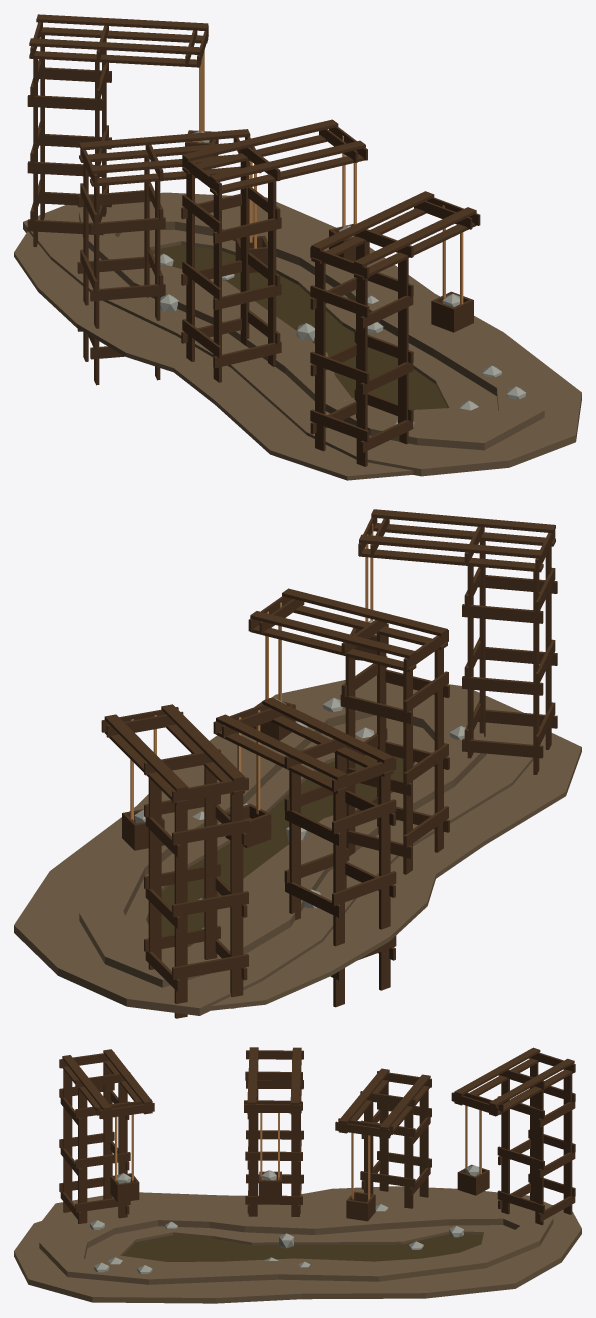
File: MineFinal.fbx
3 views of the same model, one above another, from view 1: azimuth 30°, elevation 25°; view 2: azimuth 150°, elevation 25°; view 3: azimuth 270°, elevation 25° (orthographic). The views are drawn at different scales.
Parts seen in each view (by area): view 1: Cube.786; view 2: Cube.786; view 3: Cube.786.
Part boxes in pixels (x1,y1,x2,y2): Cube.786: (14,14,581,480); Cube.786: (14,509,581,1018); Cube.786: (14,1047,581,1303).
Bounding box in the file's own units: 42.18 × 34 × 88.67.
